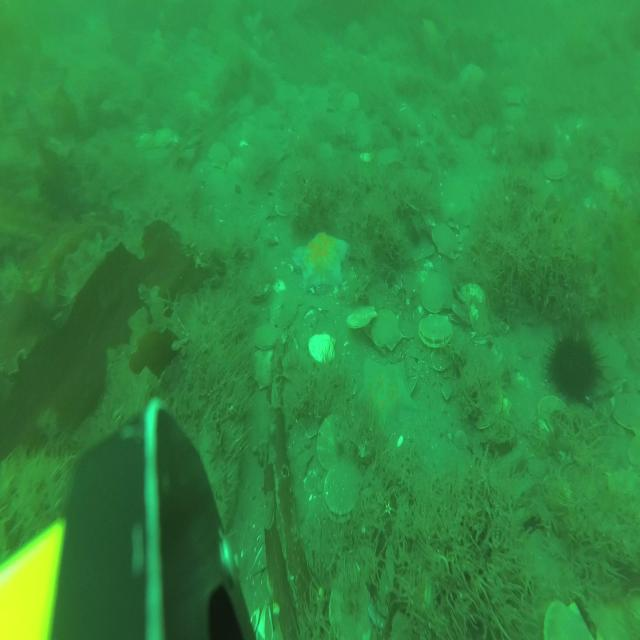echinus: (544, 321, 603, 408)
scallop: (328, 567, 374, 640), (541, 589, 600, 640), (322, 455, 365, 522), (318, 411, 352, 474), (537, 390, 571, 442), (420, 268, 456, 314), (370, 305, 404, 353), (600, 334, 631, 384), (247, 344, 277, 394), (418, 312, 454, 353), (612, 389, 640, 438), (458, 280, 487, 326), (269, 288, 300, 329), (592, 160, 624, 199), (432, 221, 461, 262), (308, 329, 338, 368), (543, 152, 570, 185), (346, 305, 378, 332), (254, 322, 282, 352), (206, 140, 232, 172), (500, 82, 525, 108), (474, 121, 496, 147), (153, 125, 173, 152), (341, 90, 361, 117)
starfish: (356, 354, 420, 438), (291, 225, 349, 289), (458, 58, 487, 96)
